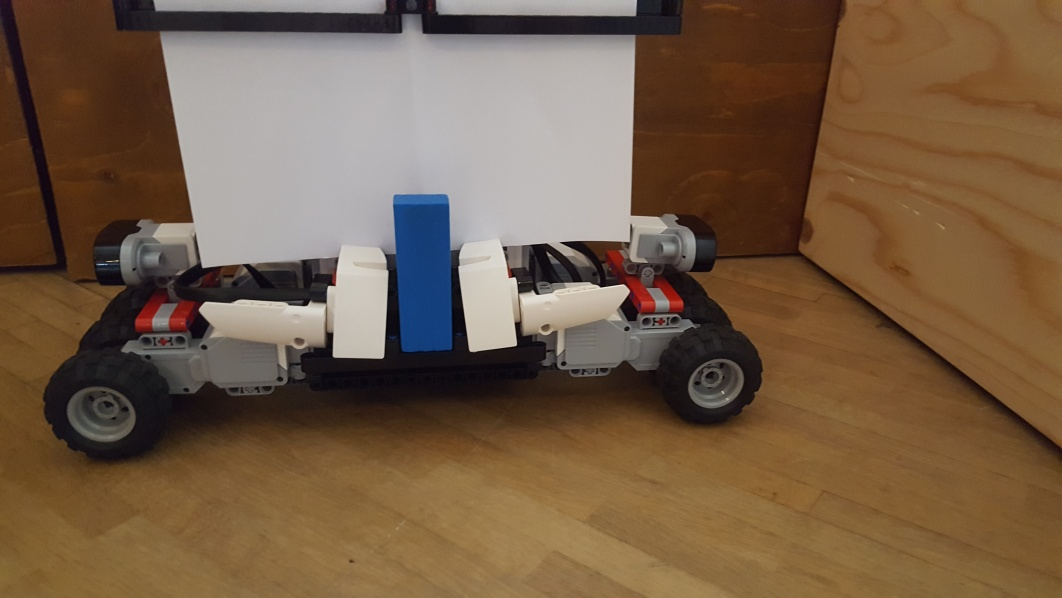beam: (387, 190, 457, 355)
